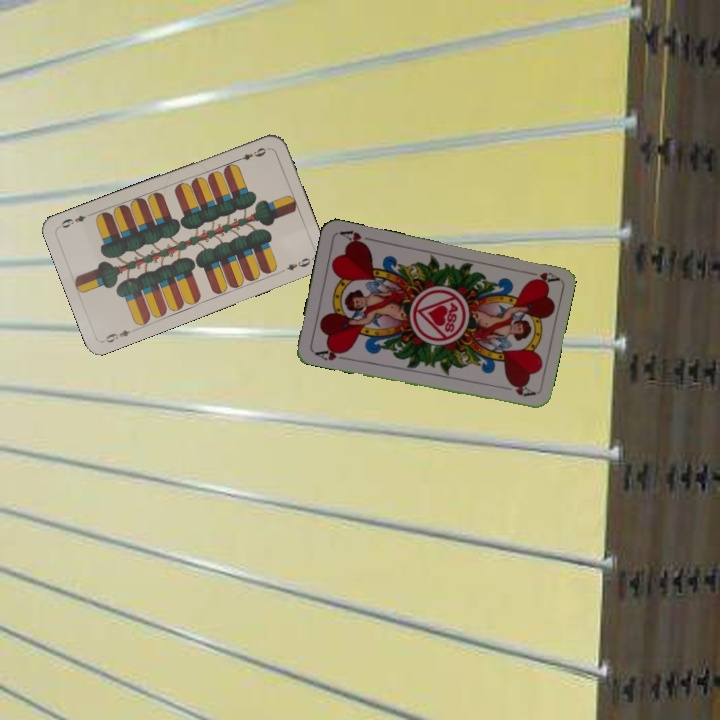E9: (101, 324, 139, 345), (232, 143, 269, 164)
HA: (520, 267, 560, 287), (310, 344, 350, 363)
